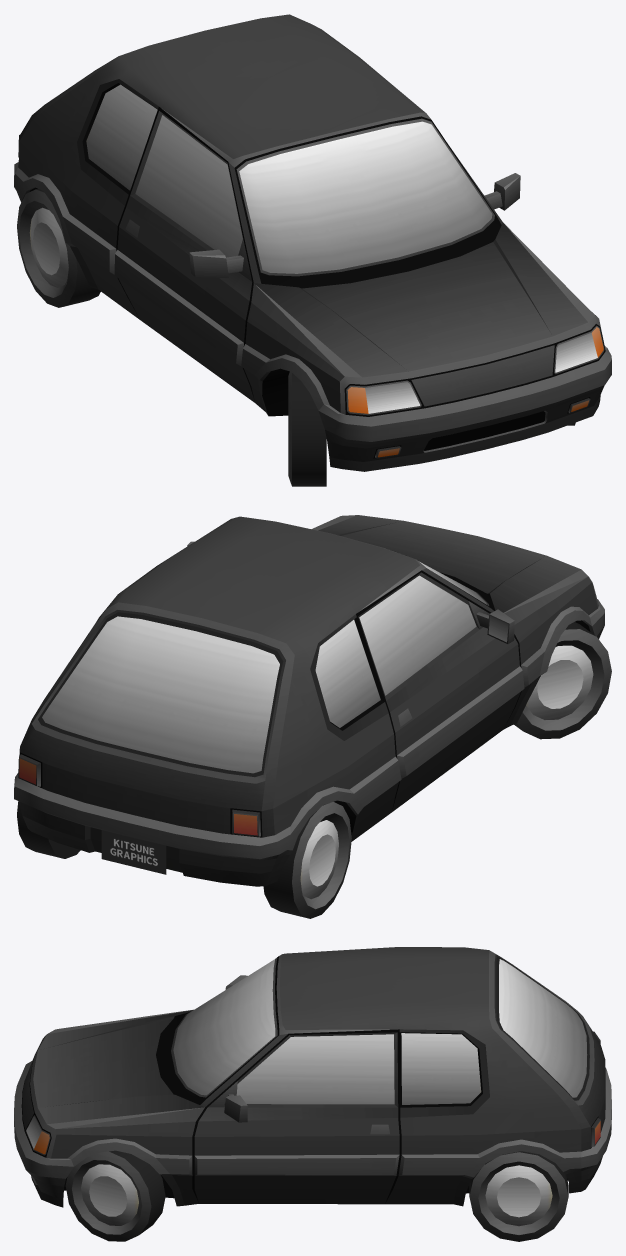
The model's file is car166.glb.
The picture shows the model from 3 angles, top to bottom: view 1: azimuth 30°, elevation 25°; view 2: azimuth 150°, elevation 25°; view 3: azimuth 270°, elevation 25°; orthographic projection. The views are drawn at different scales.
Visible parts, largest first — view 1: Body, RRW, FRW; view 2: Body, FRW, RRW, RLW; view 3: Body, RLW, FLW.
Boxes of the visible parts, <box> form: Body: <box>14,14,611,471</box>; RRW: <box>17,189,100,307</box>; FRW: <box>288,371,326,486</box>; Body: <box>14,515,604,886</box>; FRW: <box>514,622,611,739</box>; RRW: <box>263,802,351,918</box>; RLW: <box>17,801,80,858</box>; Body: <box>14,947,611,1207</box>; RLW: <box>469,1151,568,1241</box>; FLW: <box>65,1150,165,1241</box>.
Size of the model in its own units: 1.26 by 0.9298 by 2.43.
Materials: 1 (1 with a texture image).
